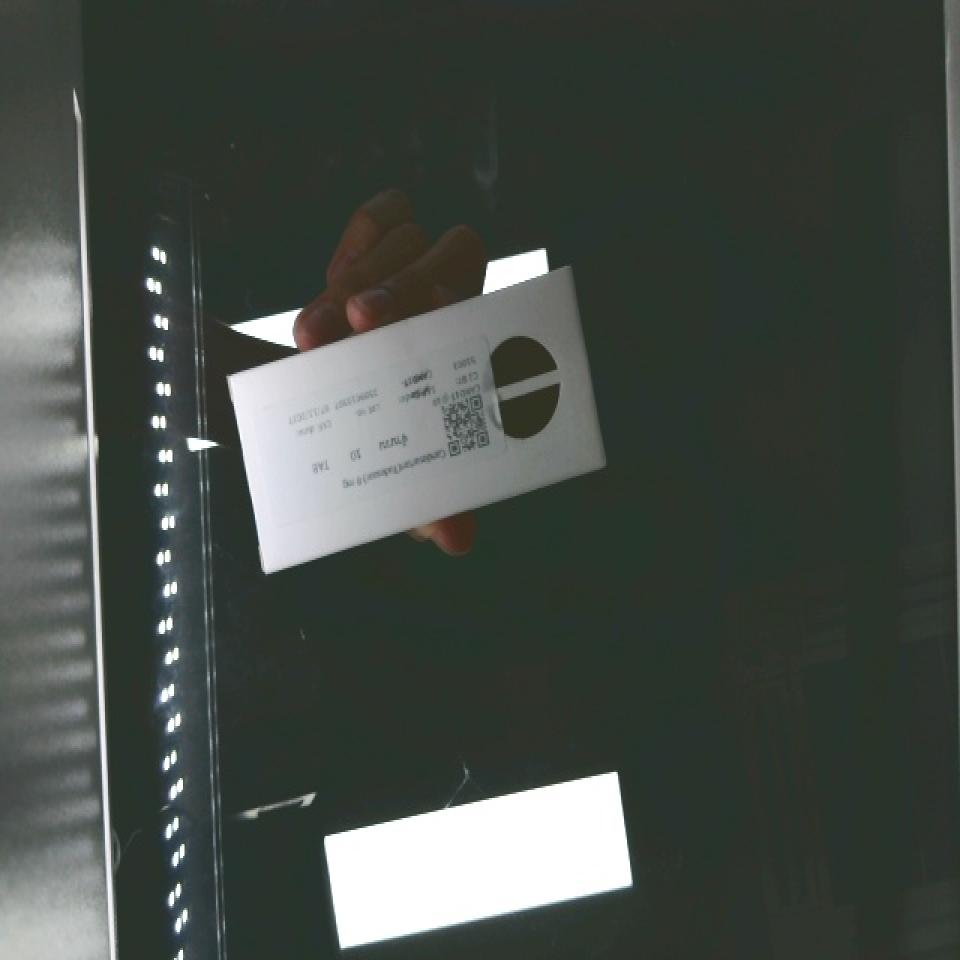medicine_box: (204, 268, 630, 574)
qr_code: (426, 373, 506, 476)
